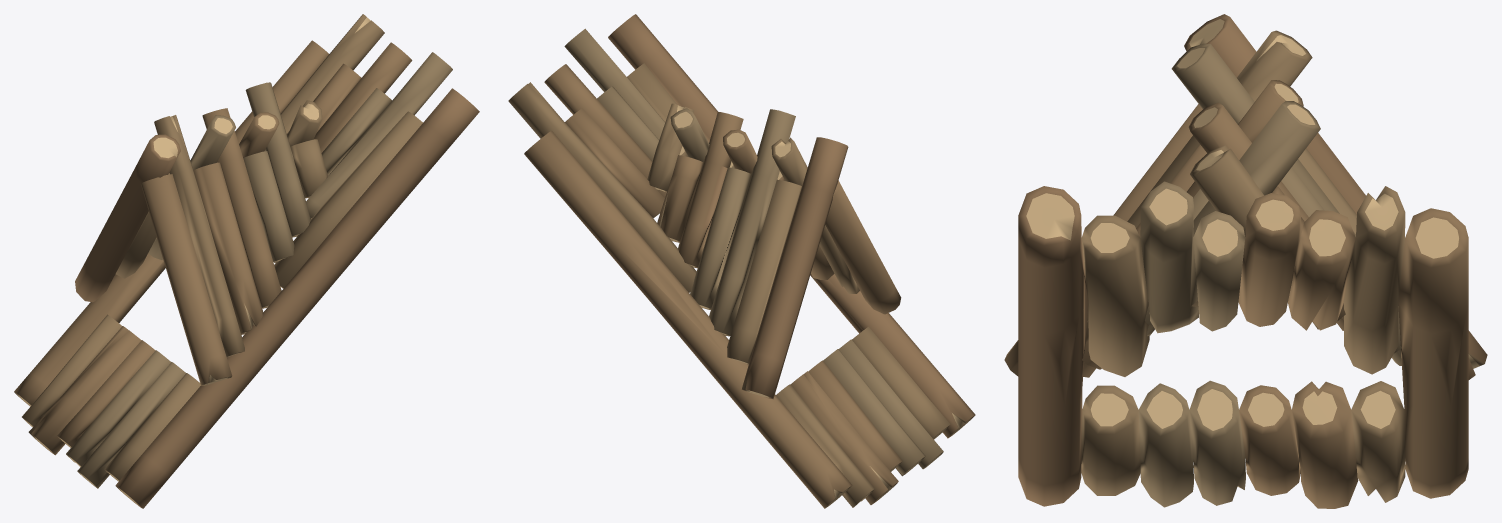
File: rpgpp_ag_roof_01c_6x3x3_half.fbx
The picture shows the model from 3 angles, left to right: view 1: azimuth 30°, elevation 25°; view 2: azimuth 150°, elevation 25°; view 3: azimuth 270°, elevation 25°; orthographic projection. The views are drawn at different scales.
Visible parts, largest first — view 1: rpgpp_ag_roof_01c_6x3x3_half; view 2: rpgpp_ag_roof_01c_6x3x3_half; view 3: rpgpp_ag_roof_01c_6x3x3_half.
Part boxes in pixels (bbox=[...]): rpgpp_ag_roof_01c_6x3x3_half: bbox=[14, 14, 479, 508]; rpgpp_ag_roof_01c_6x3x3_half: bbox=[508, 14, 975, 508]; rpgpp_ag_roof_01c_6x3x3_half: bbox=[1004, 14, 1487, 508].
Size of the model in its own units: 4.96 by 4.49 by 3.22.
